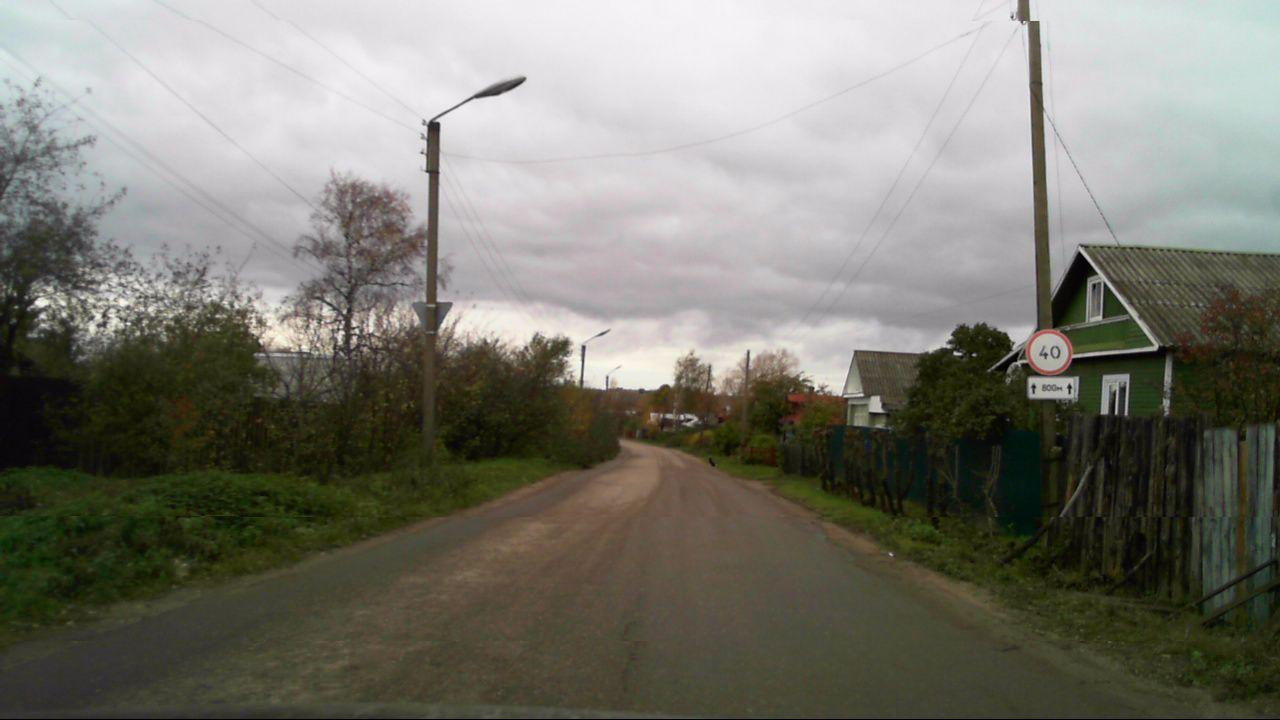road_sign: (1026, 329, 1073, 375), (1027, 377, 1075, 400)
